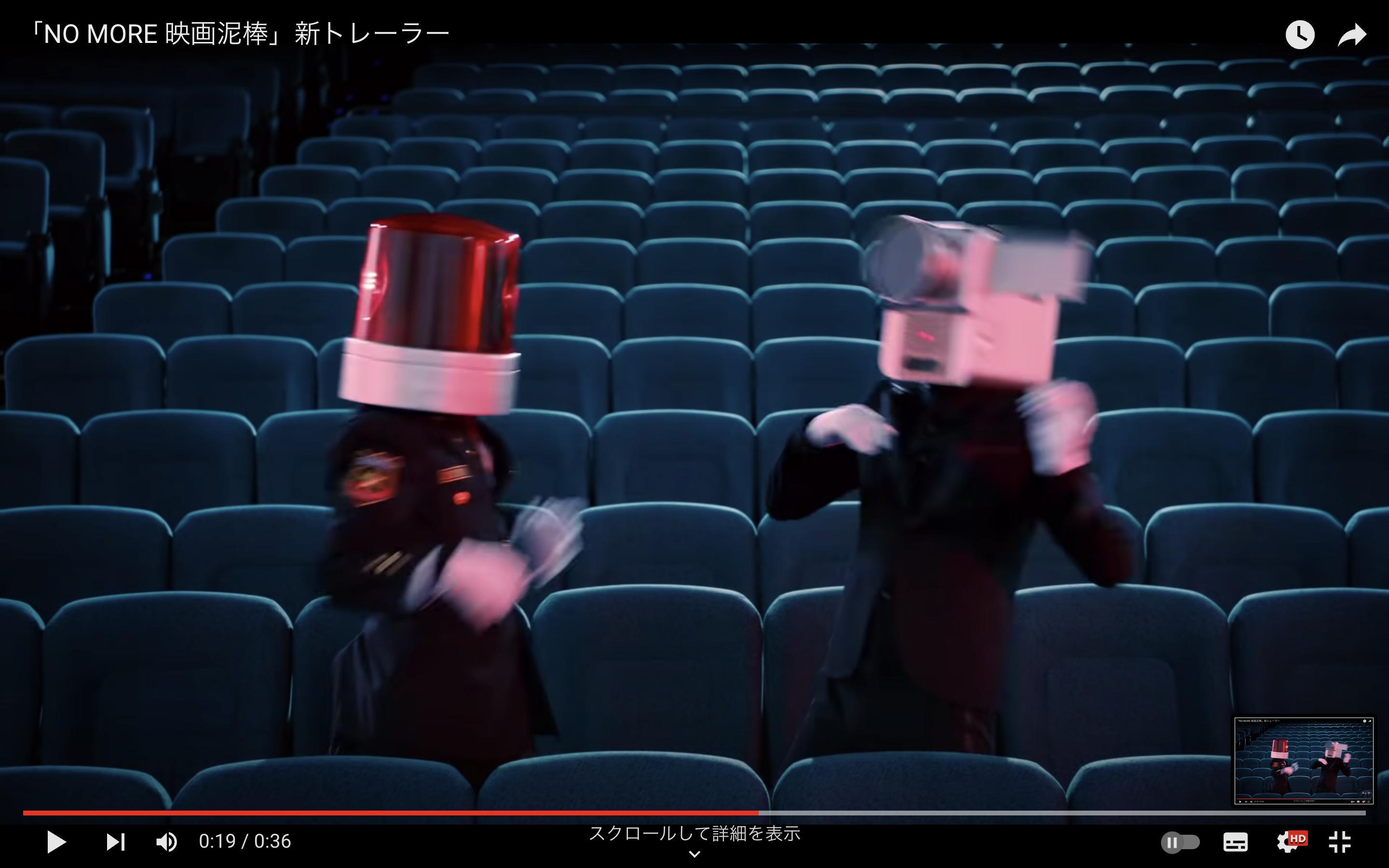no more kid: (864, 210, 1089, 404)
